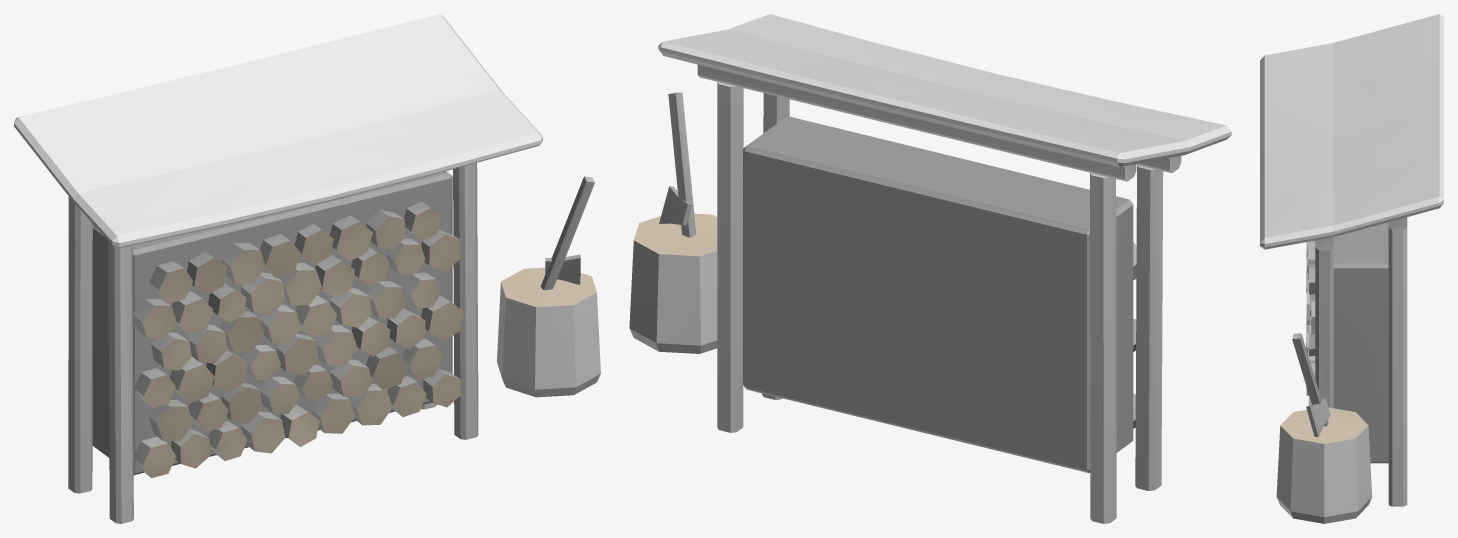
File: woodpile.glb
The picture shows the model from 3 angles, left to right: view 1: azimuth 30°, elevation 25°; view 2: azimuth 150°, elevation 25°; view 3: azimuth 270°, elevation 25°; orthographic projection. The views are drawn at different scales.
Visible parts, largest first — view 1: axe_haft; view 2: axe_haft; view 3: axe_haft.
Boxes of the visible parts, x1=… form: axe_haft: x1=14, y1=14, x2=600, y2=523; axe_haft: x1=629, y1=14, x2=1231, y2=523; axe_haft: x1=1260, y1=14, x2=1443, y2=523.
Size of the model in its own units: 2.88 by 1.94 by 1.
